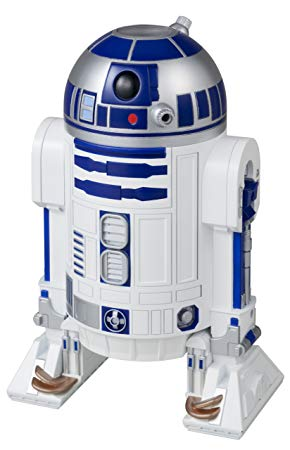r2d2: (6, 16, 284, 441)
